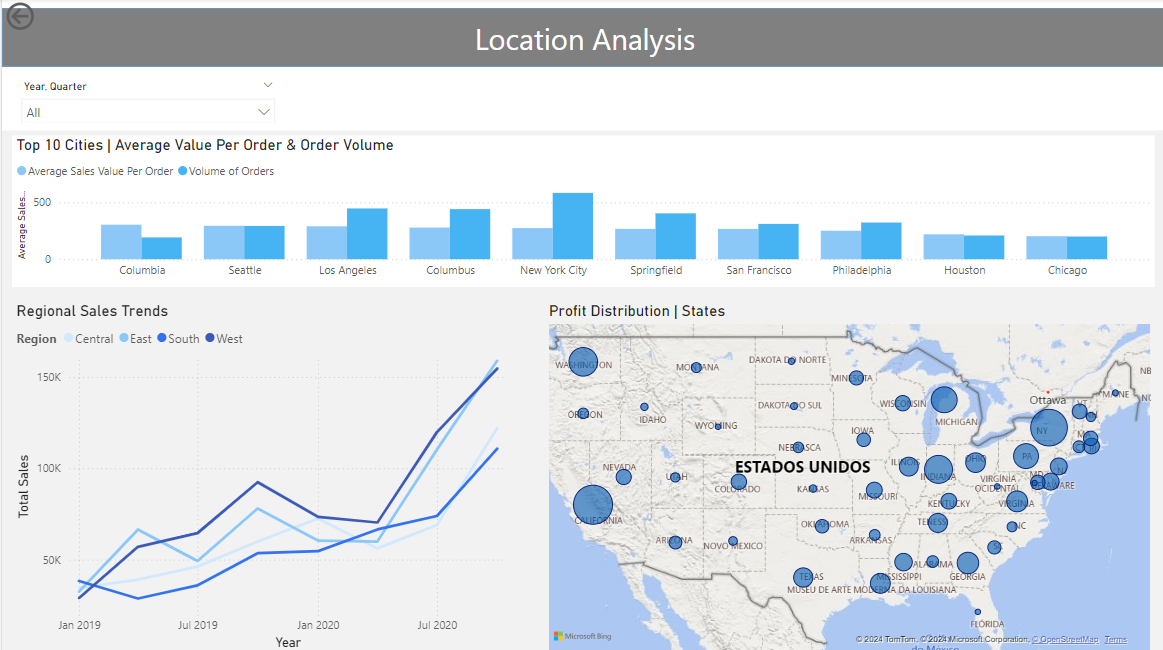

Layout of this report page (visuals, bound fields, positions):
{"tool":"powerbi","page":{"name":"Location Analysis","canvas":[1280,720],"ordinal":2},"visuals":[{"type":"map","title":"Profit Distribution | States","fields":{"Category":["Dim_Location.State","Dim_Location.Country"],"Size":["_Measures.Total Profit"]},"box":[595.5,333.4,669.6,387],"z":0},{"type":"lineChart","title":"Regional Sales Trends","fields":{"Y":["_Measures.Total Sales"],"Series":["Dim_Location.Region"],"Category":["Dim_Date.Date.Variation.Date Hierarchy.Year","Dim_Date.Date.Variation.Date Hierarchy.Quarter"]},"box":[11,333.4,559.9,387],"z":1000},{"type":"clusteredColumnChart","title":"Top 10 Cities | Average Value Per Order & Order Volume","fields":{"Category":["Dim_Location.City"],"Y":["_Measures.Average Sales Value Per Order","_Measures.Volume of Orders"]},"box":[11,150.9,1254.2,166],"z":2000},{"type":"slicer","fields":{"Values":["Dim_Date.Date.Variation.Date Hierarchy.Year","Dim_Date.Date.Variation.Date Hierarchy.Quarter"]},"box":[966,86.4,299.1,52.1],"z":3000},{"type":"image","box":[11,9.6,391.1,124.9],"z":4000},{"type":"shape","box":[415.5,9.6,864.5,52.1],"z":4001},{"type":"textbox","box":[918,9.6,362.3,52.1],"z":4002}]}

Visuals, with their boxes in screenshot pixels (x1, y1, x2, y2), scaled from the page's 1280x720 canvas onto the 1163x650 screenshot:
"Profit Distribution | States" map: (541, 301, 1149, 649)
"Regional Sales Trends" lineChart: (10, 301, 519, 649)
"Top 10 Cities | Average Value Per Order & Order Volume" clusteredColumnChart: (10, 136, 1150, 286)
slicer - Dim_Date.Date.Variation.Date Hierarchy.Year x Dim_Date.Date.Variation.Date Hierarchy.Quarter: (878, 78, 1149, 125)
image: (10, 9, 365, 121)
shape: (378, 9, 1162, 56)
textbox: (834, 9, 1162, 56)
